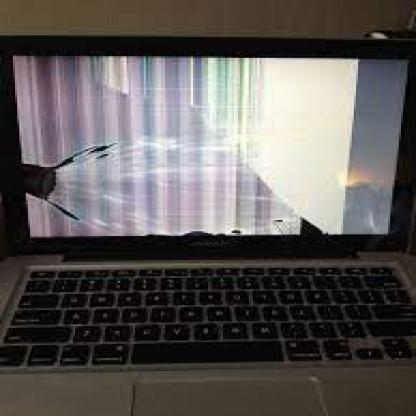crack: (15, 119, 332, 246)
lines: (20, 58, 260, 231)
